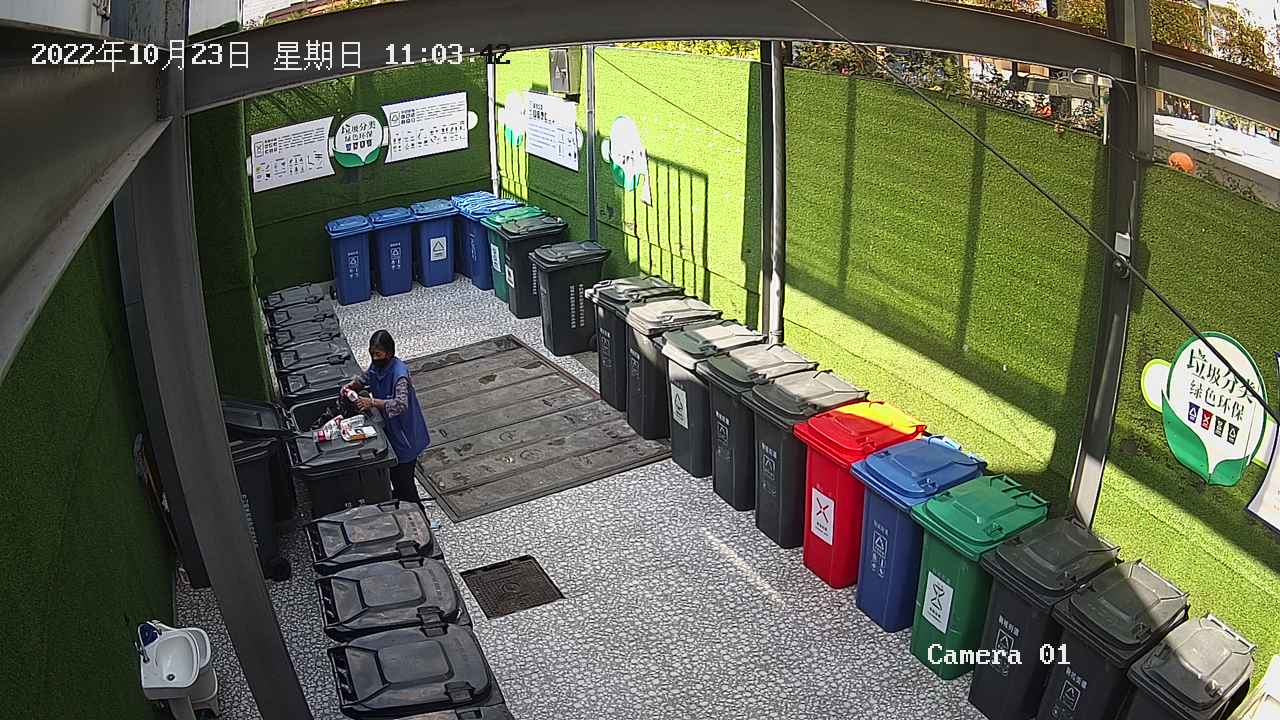worker: (339, 324, 436, 534)
